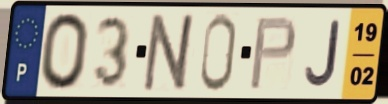0: (198, 11, 238, 95)
3: (92, 14, 133, 90)
J: (302, 18, 342, 89)
N: (140, 11, 201, 94)
O: (38, 10, 92, 93)
P: (247, 15, 299, 92)
